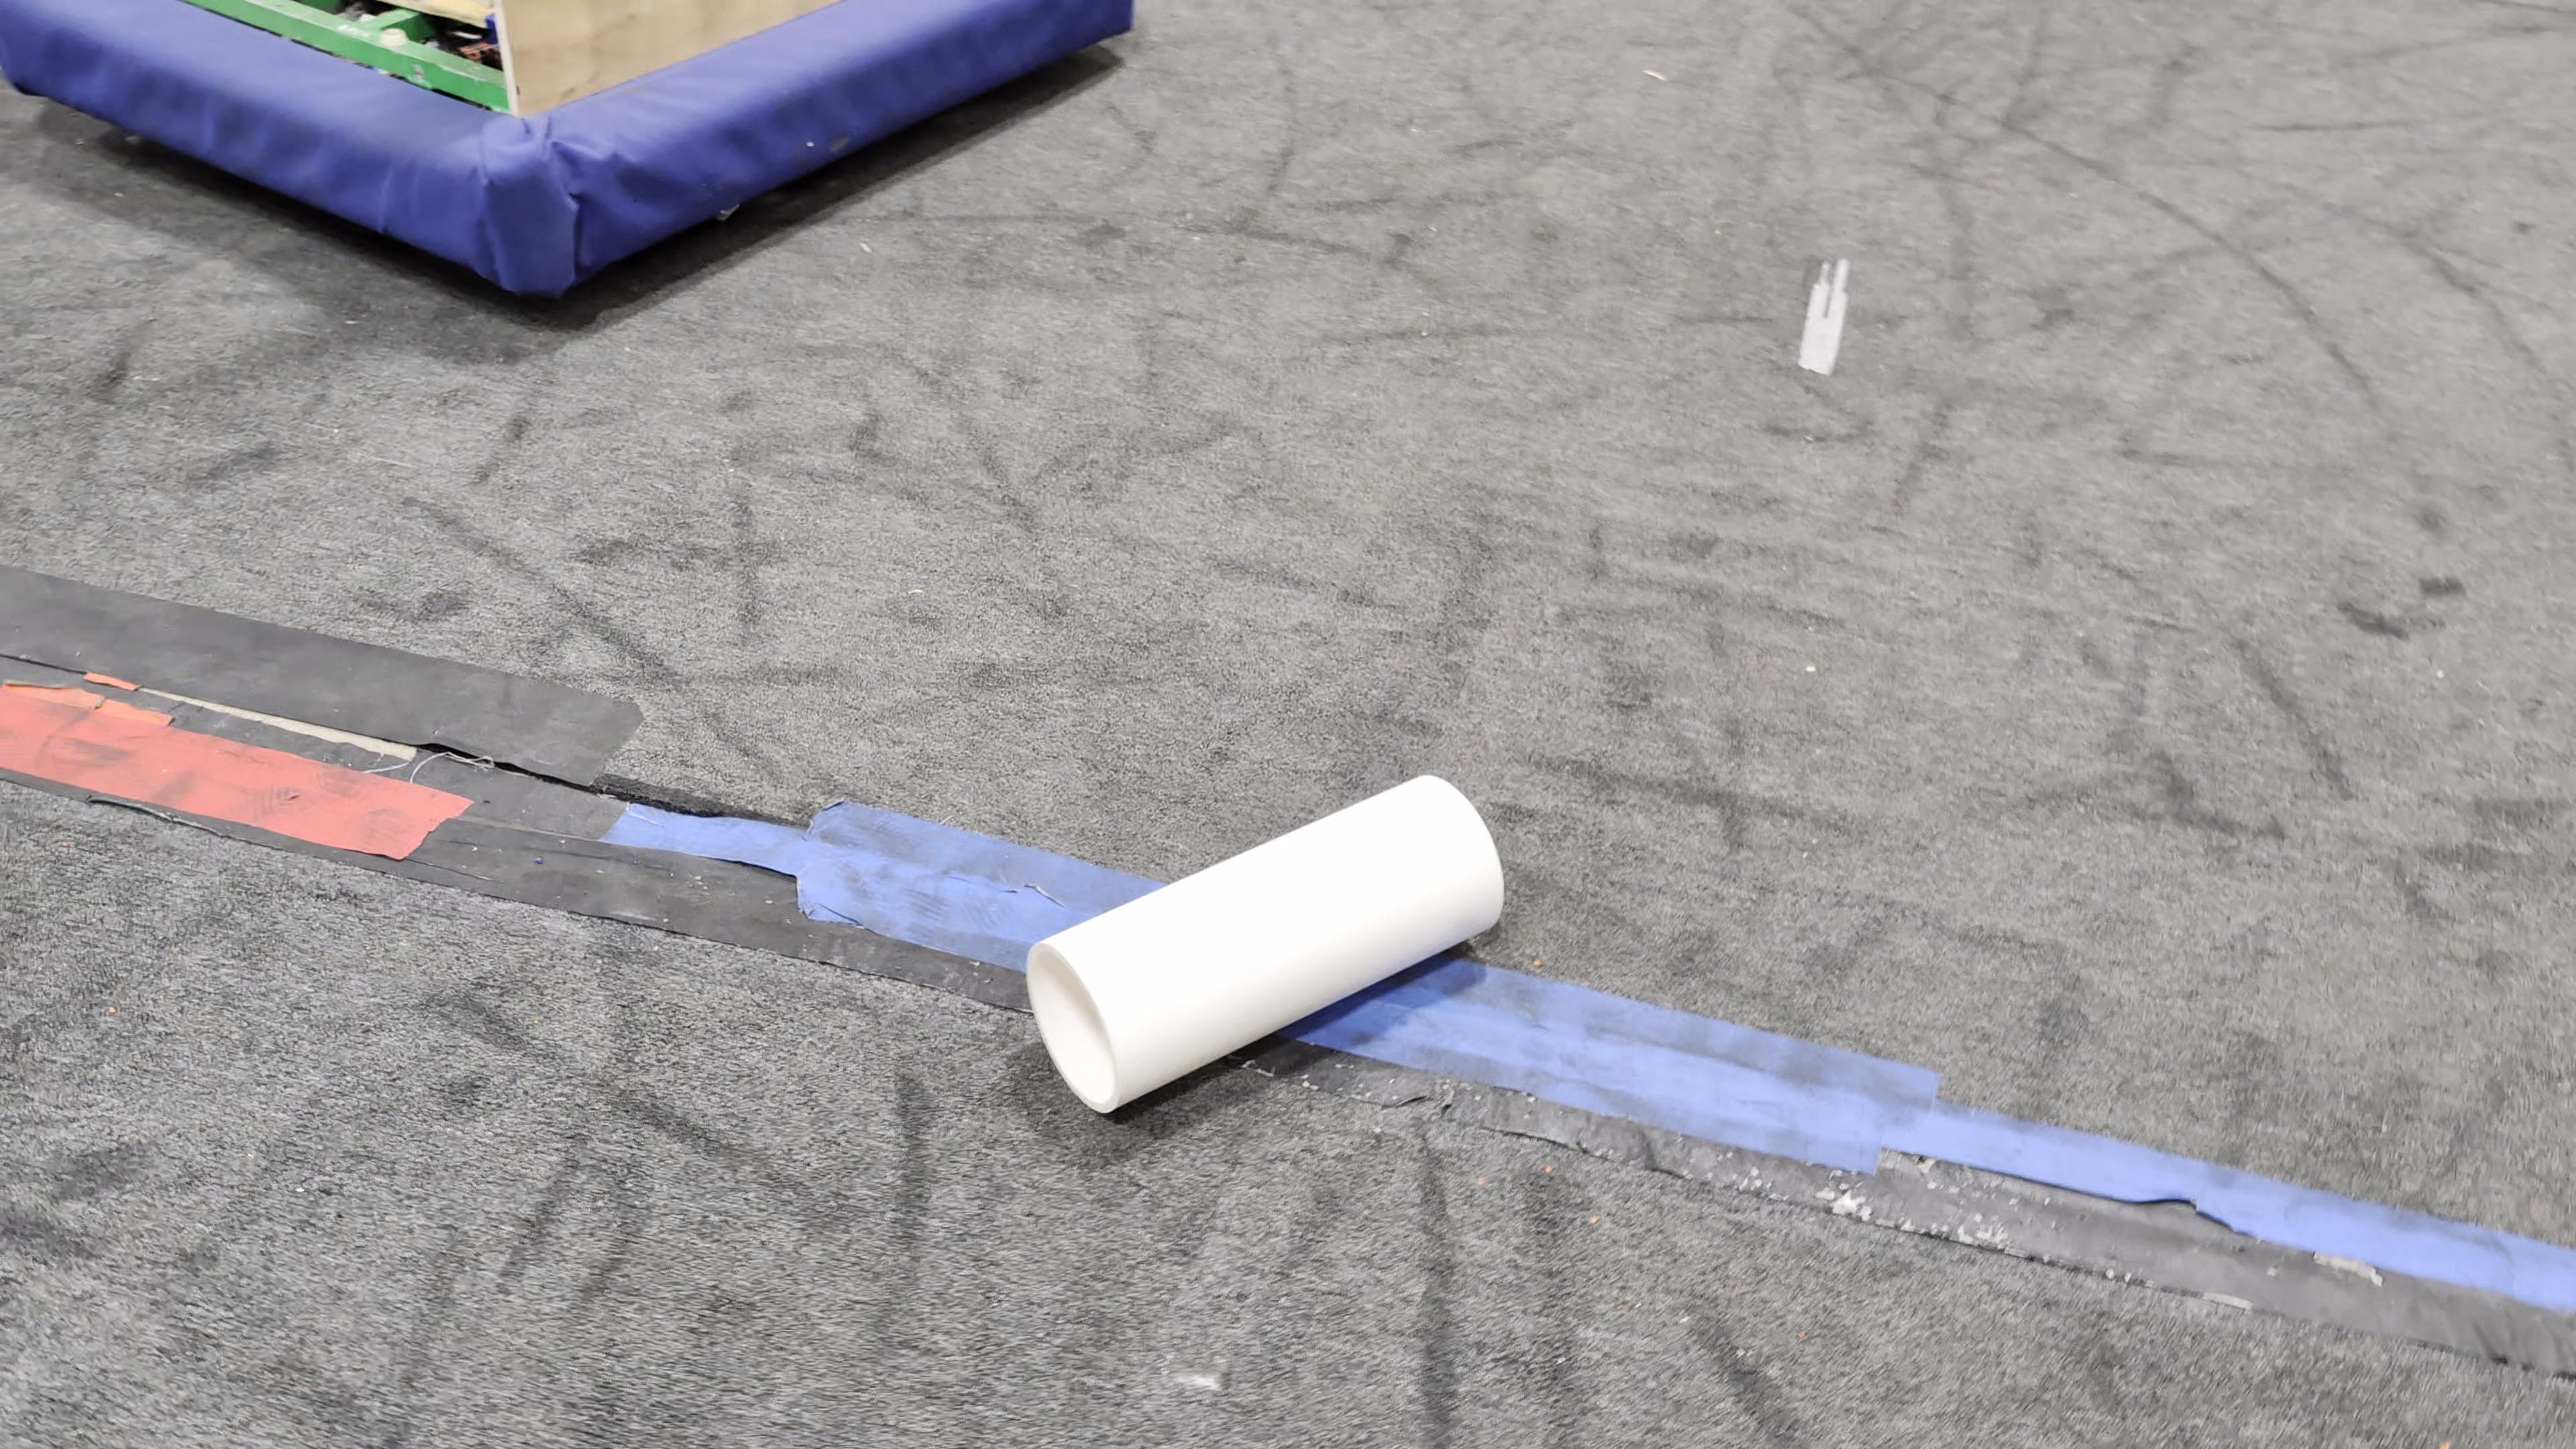coral: (1021, 768, 1507, 1116)
